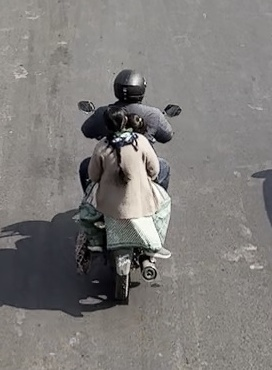BikeWithRider: (65, 63, 186, 306)
Helmet: (108, 64, 151, 106)
NoHelmet: (97, 103, 135, 141)
